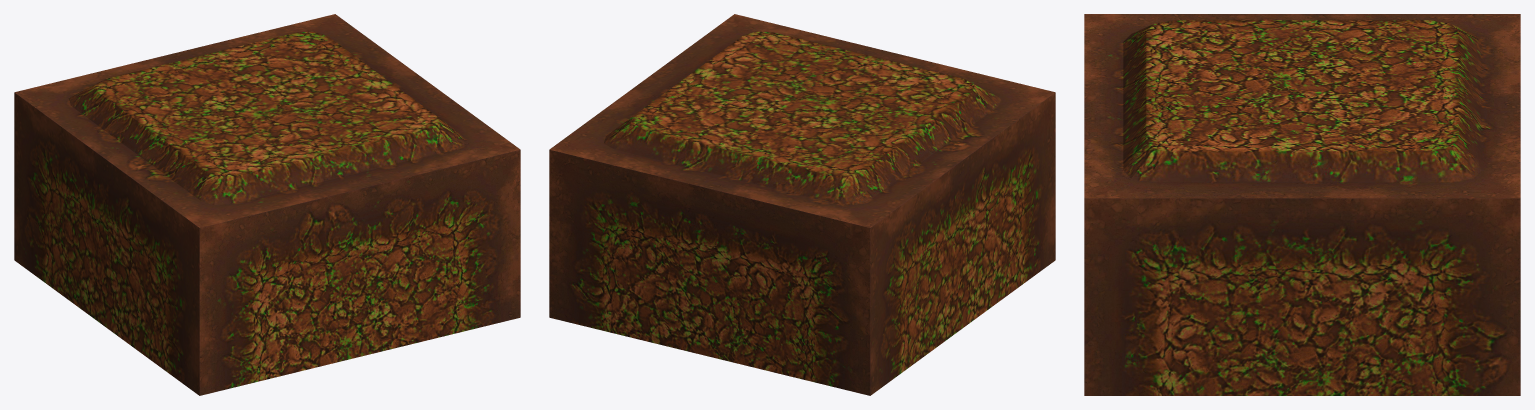
The model's file is TIle_Garden.fbx.
3 renders of one model, left to right at view 1: azimuth 30°, elevation 25°; view 2: azimuth 150°, elevation 25°; view 3: azimuth 270°, elevation 25°, orthographic. The views are drawn at different scales.
Parts seen in each view (by area): view 1: Tile_Dirt_1.002; view 2: Tile_Dirt_1.002; view 3: Tile_Dirt_1.002.
Boxes of the visible parts, x1,y1,x2,y2 form: Tile_Dirt_1.002: (14,14,520,395); Tile_Dirt_1.002: (549,14,1055,395); Tile_Dirt_1.002: (1084,14,1520,395).
Bounding box in the file's own units: 100 × 55 × 100.
